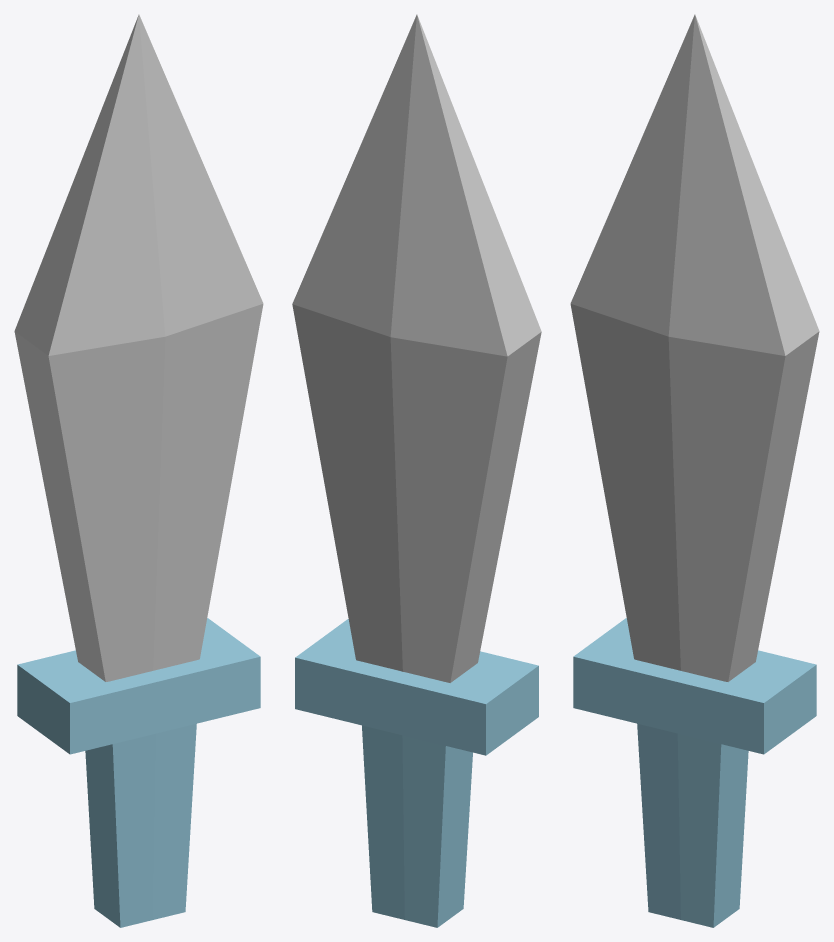
The model's file is Sword_blue.fbx.
3 renders of one model, left to right at view 1: azimuth 30°, elevation 25°; view 2: azimuth 150°, elevation 25°; view 3: azimuth 330°, elevation 25°, orthographic.
Visible parts, largest first — view 1: pCube4, pCube3; view 2: pCube4, pCube3; view 3: pCube4, pCube3.
Part boxes in pixels (x1,y1,x2,y2): pCube4: (14,14,263,681); pCube3: (17,618,260,927); pCube4: (292,14,541,682); pCube3: (295,619,538,927); pCube4: (570,14,819,681); pCube3: (573,618,816,927).
Size of the model in its own units: 2.36 by 9.38 by 1.
